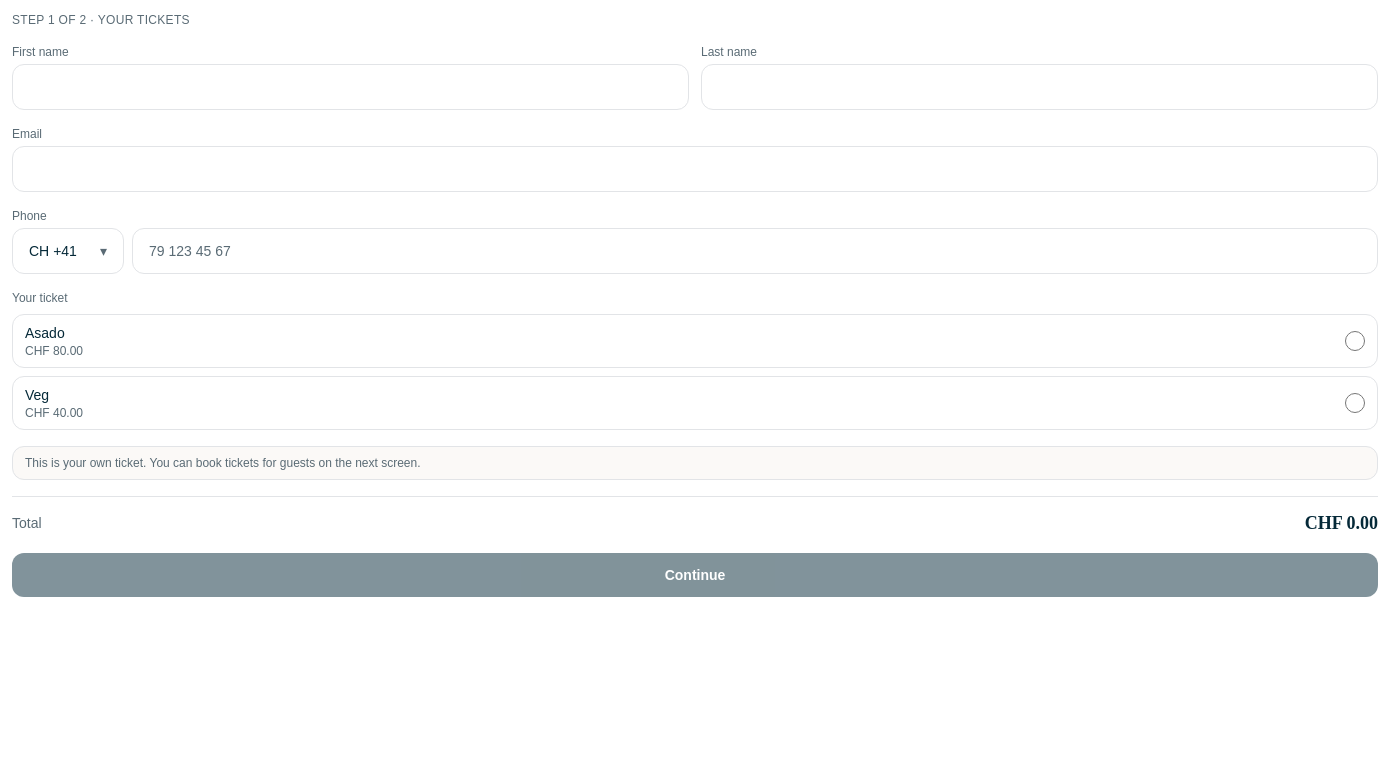
Test case: step 2 — repeatable guest rows (R20) › the buyer sees their own ticket summarised, not a guest row demanding their details again
Type "Frank" into the field labelled "First name".
click(350, 87); type("Frank")  # box [12, 64, 689, 110]
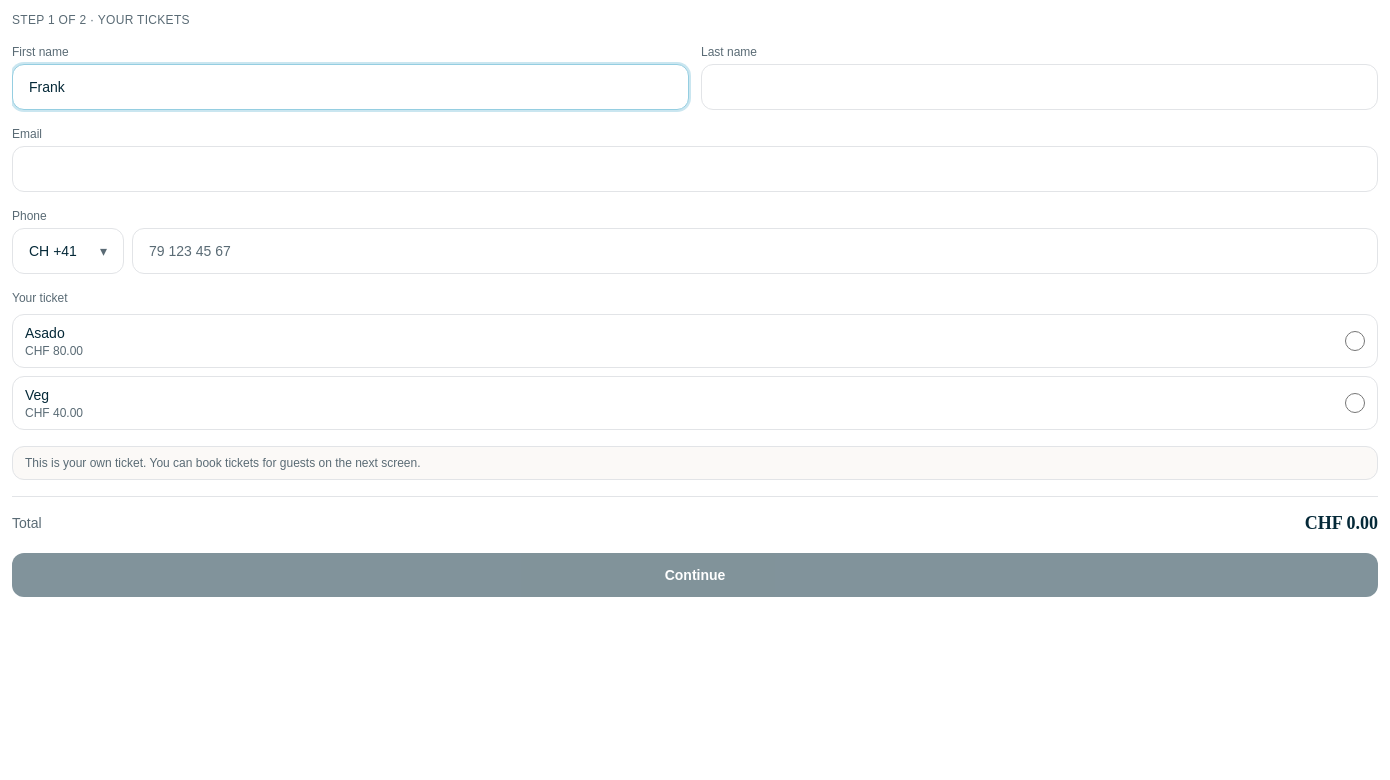
Type "Sykes" into the field labelled "Last name".
click(1040, 87); type("Sykes")  # box [701, 64, 1378, 110]
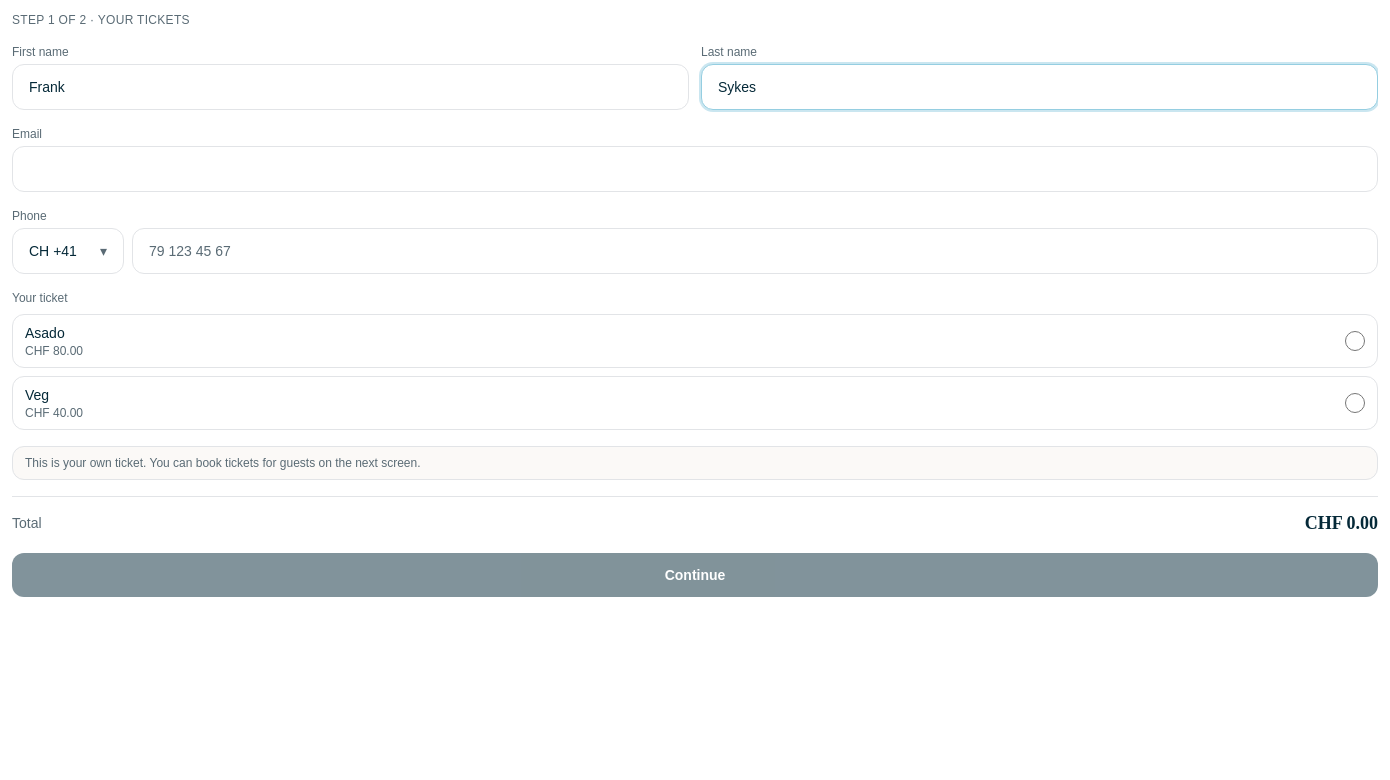
Type "frank@x.ch" into the field labelled "Email".
click(695, 169); type("frank@x.ch")  # box [12, 146, 1378, 192]
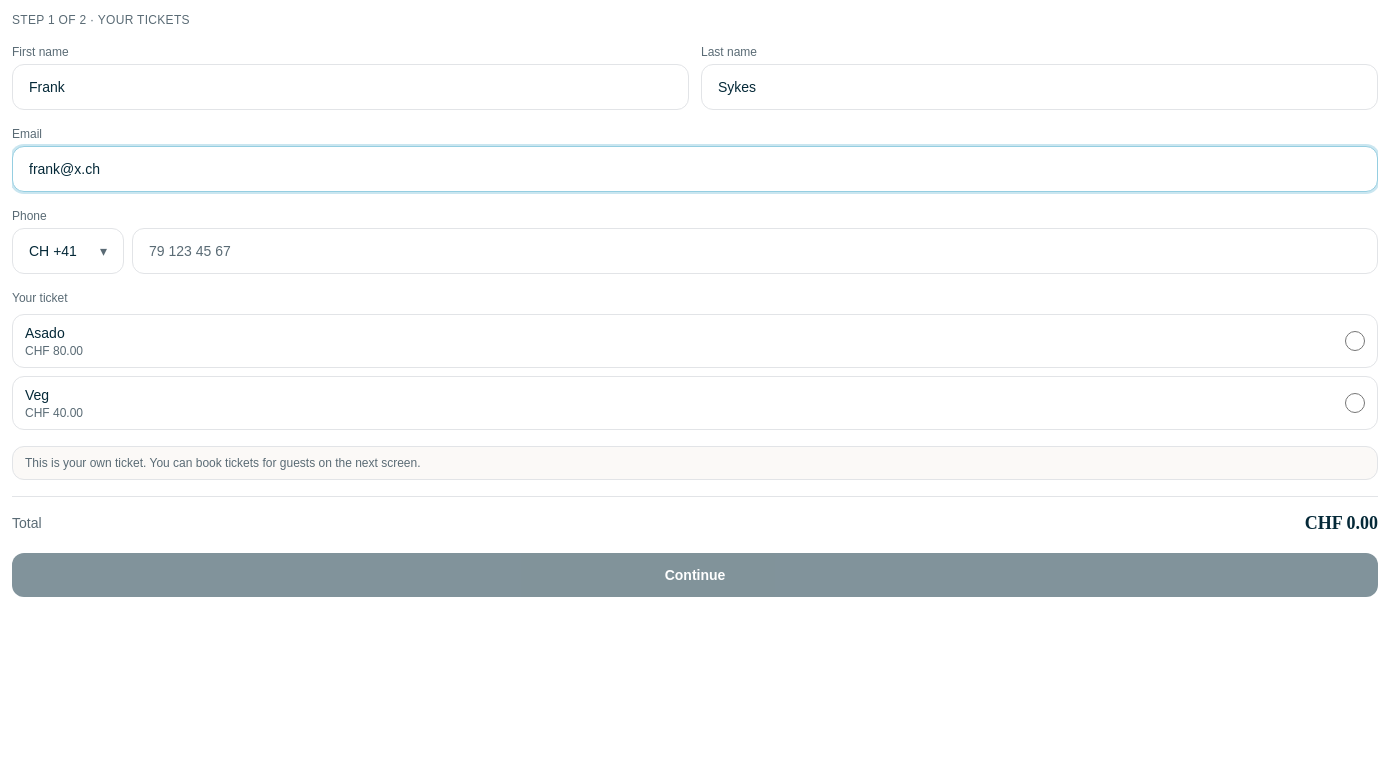
Click the radio button labelled "Veg CHF 40.00".
click(1355, 403)  # box [1345, 393, 1365, 413]
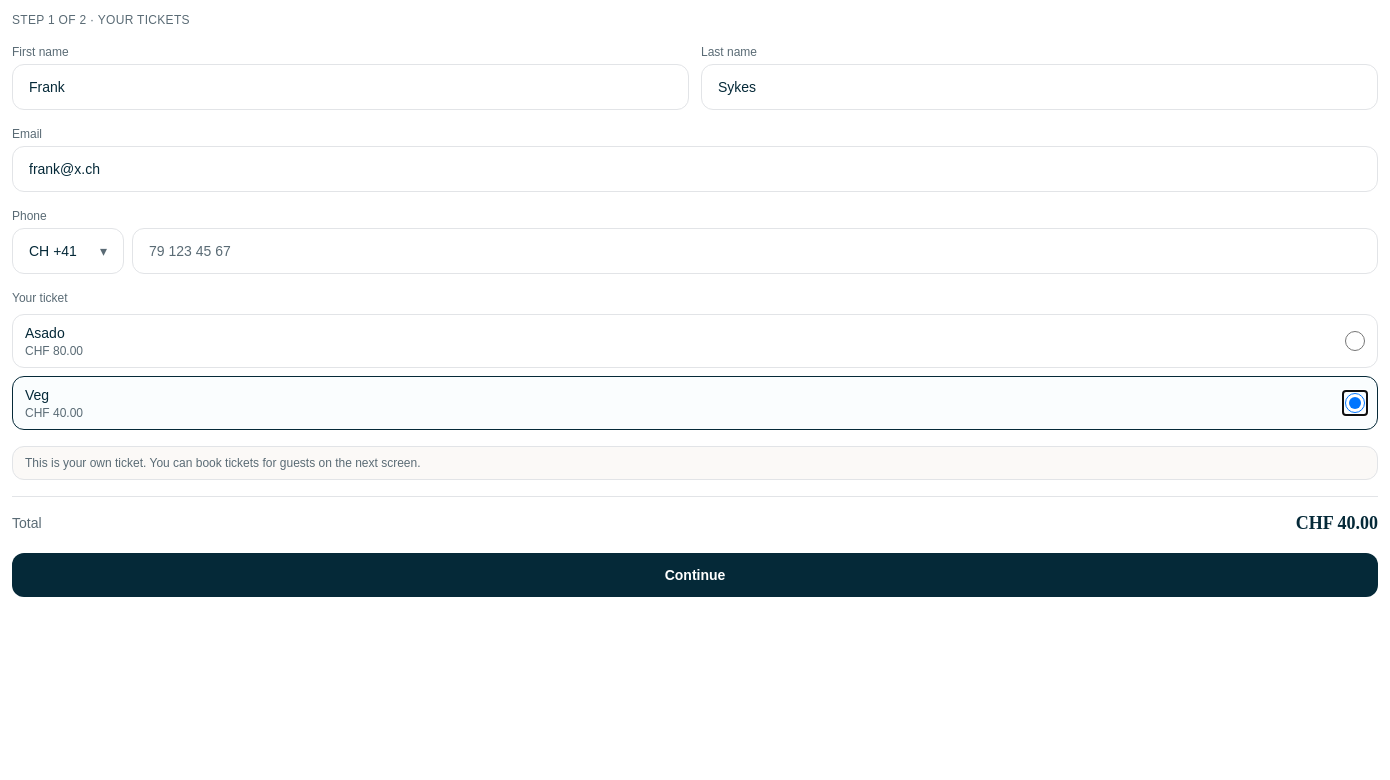
Click the button "Continue".
click(695, 575)  # box [12, 553, 1378, 597]
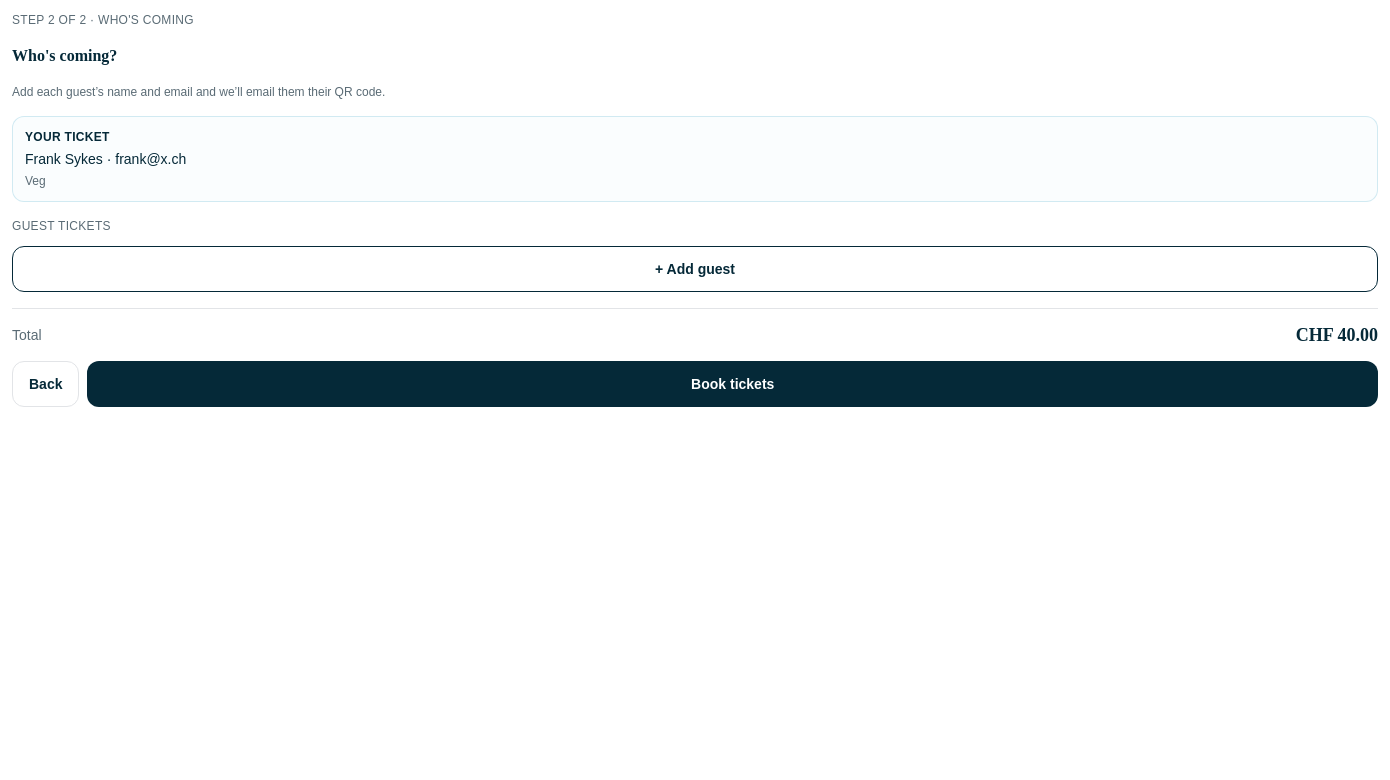
Expected: the text "Veg" is shown, [25, 174, 46, 188]
Now the heading "Who's coming?" is shown, box [12, 47, 117, 64]
